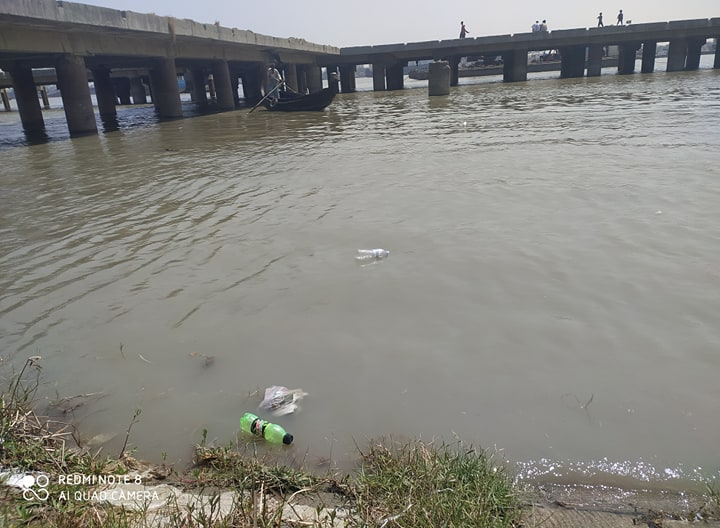Plastic Bottle: (239, 412, 294, 445), (355, 248, 391, 261), (462, 121, 467, 124)
